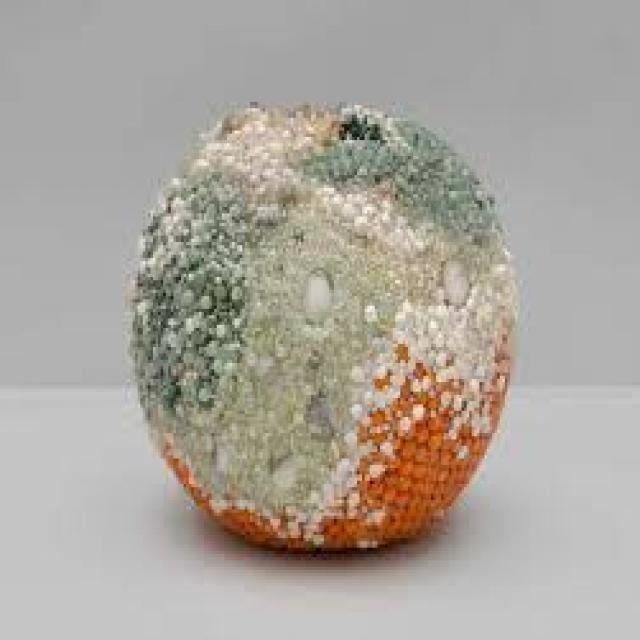organic waste: (128, 98, 515, 544)
